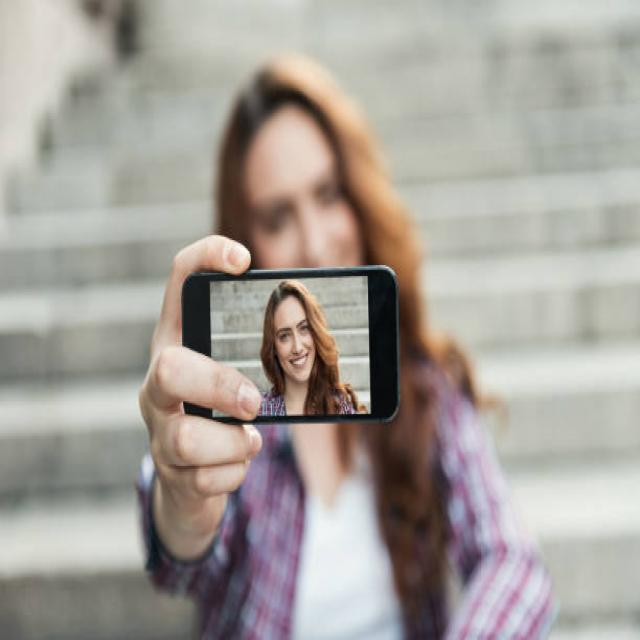device: (180, 259, 402, 433)
